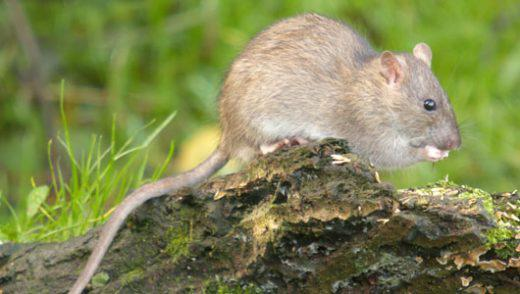rat: (67, 13, 460, 294)
